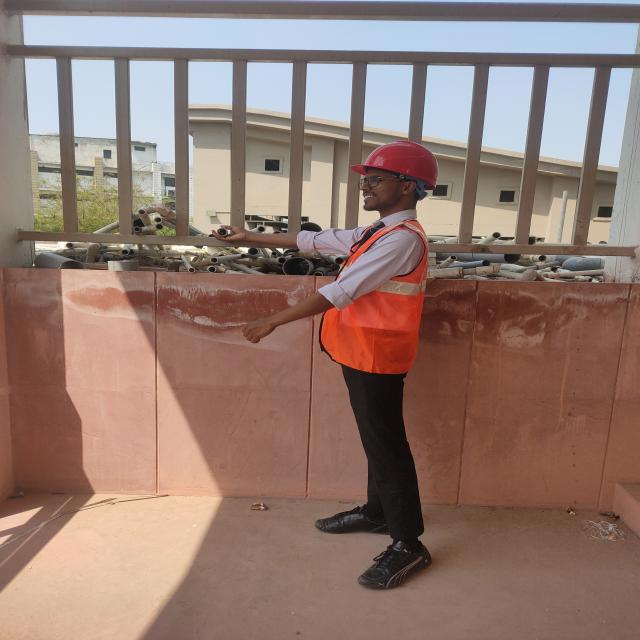safe: (246, 141, 430, 588)
